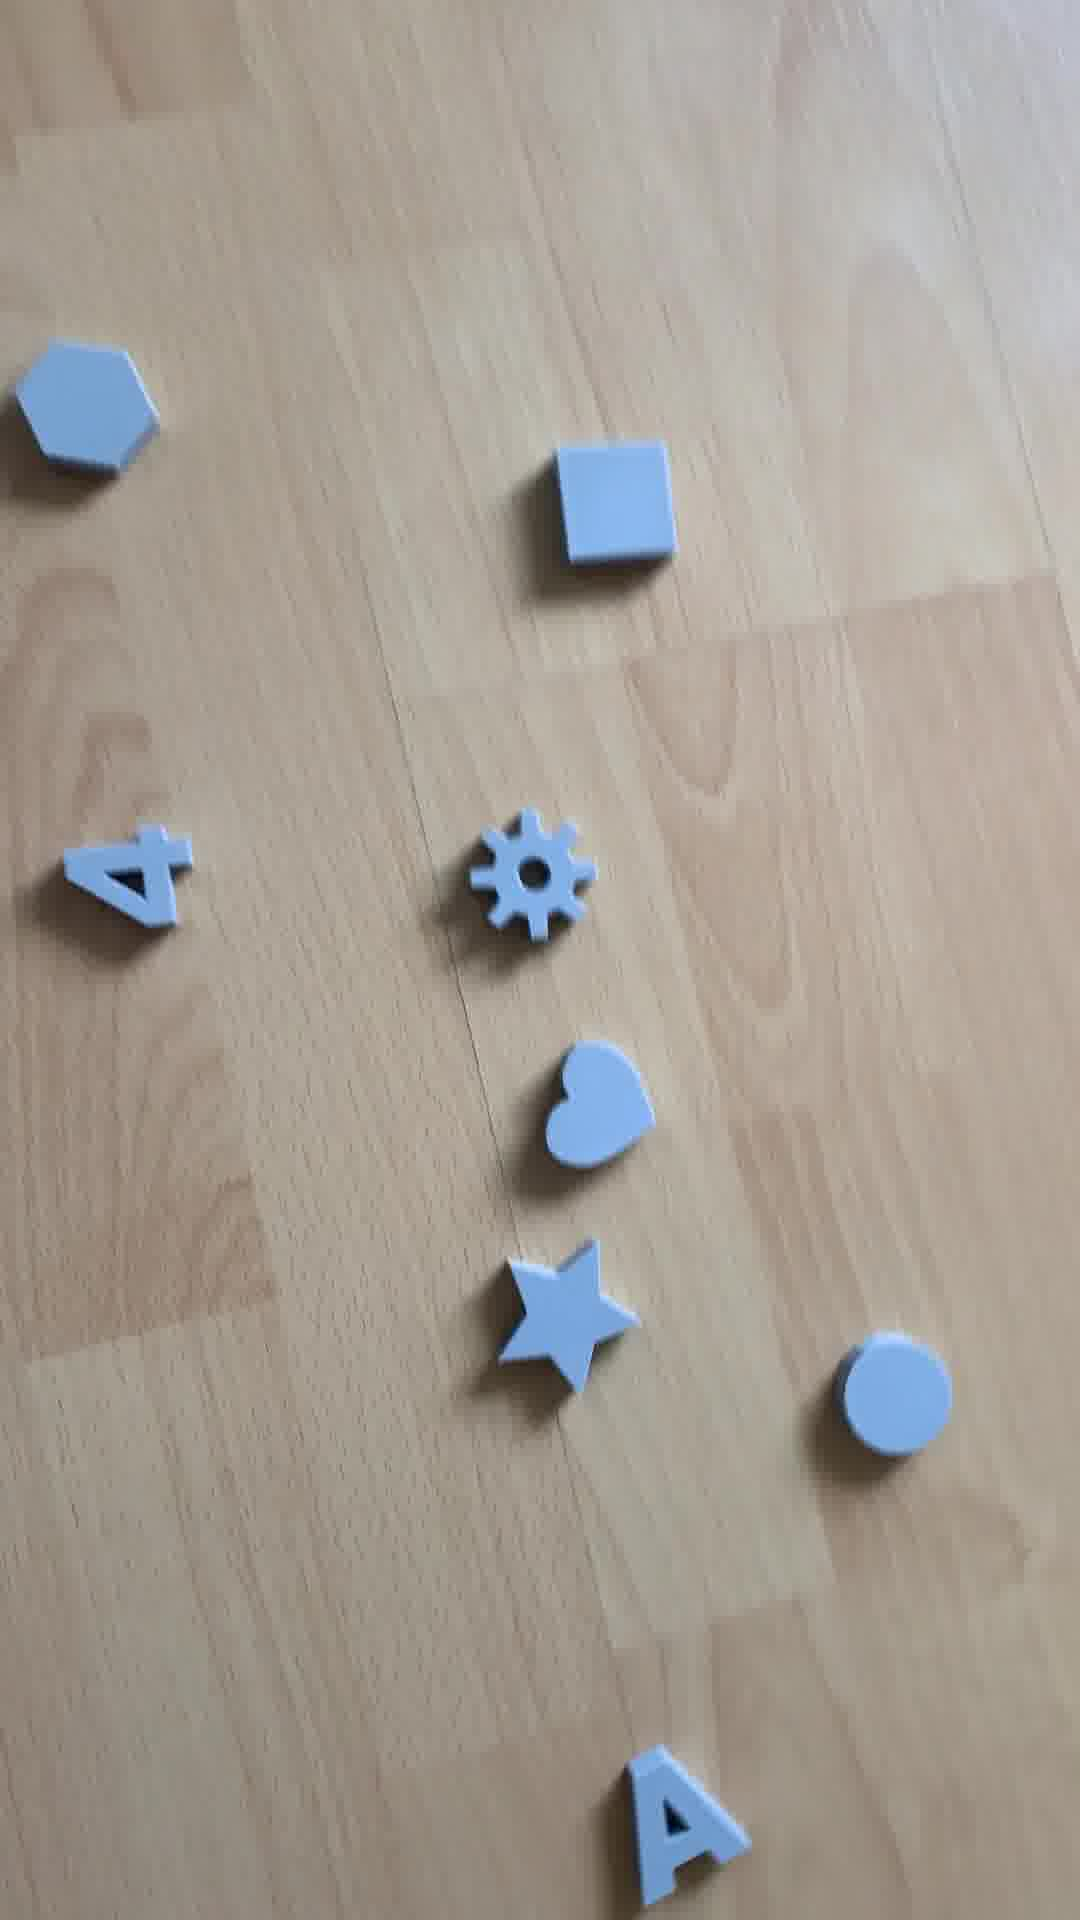Gray A-letter: (615, 1734, 749, 1894)
Gray circle: (827, 1338, 957, 1469)
Gray four: (58, 820, 211, 948)
Gray gear: (460, 816, 604, 945)
Gray heart: (527, 1042, 645, 1174)
Gray hexagon: (1, 342, 166, 481)
Gray square: (529, 434, 688, 582)
Gray star: (487, 1242, 640, 1399)
